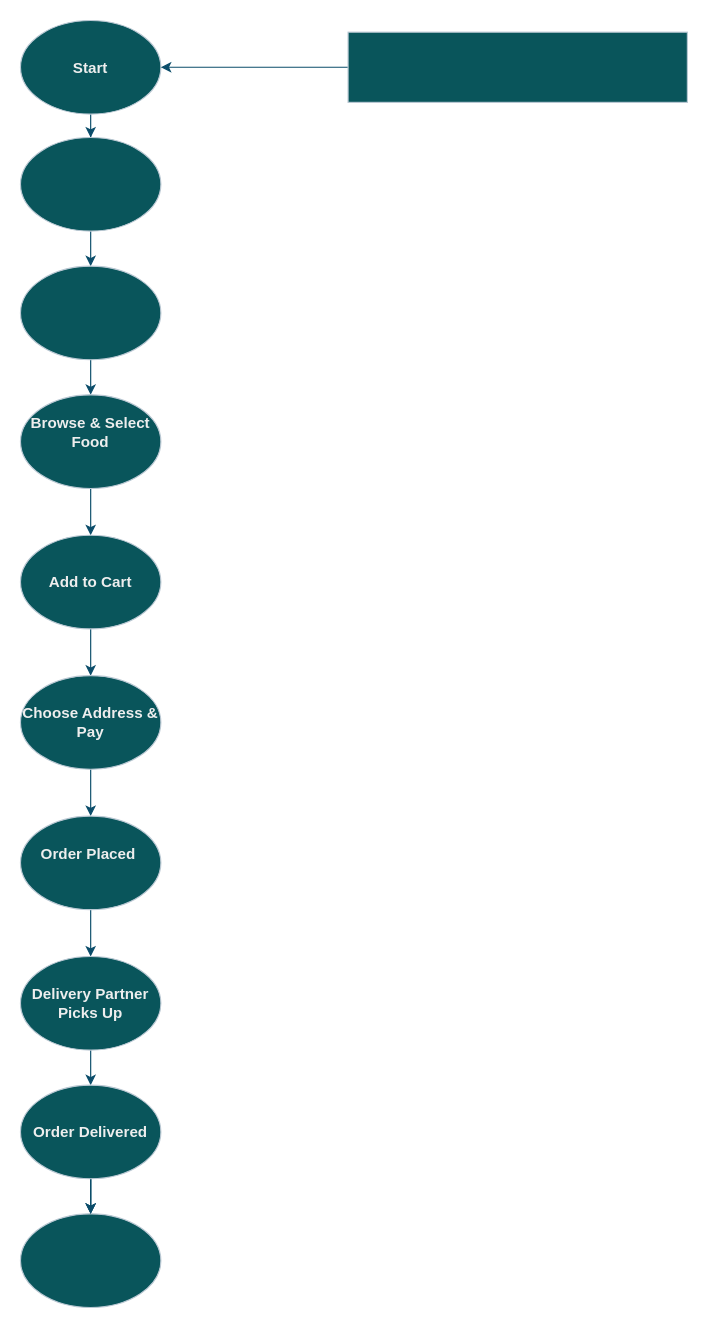
This 708x1328 diagram has some shape labels left out. Here are the shapes that lost their labels. From the top down, the centre of each, then its label:
[517,66]: DevOps Lifecycle for Food Delivery apps
[90,183]: Open App & Login
[90,312]: Enter Location
[90,1260]: End
